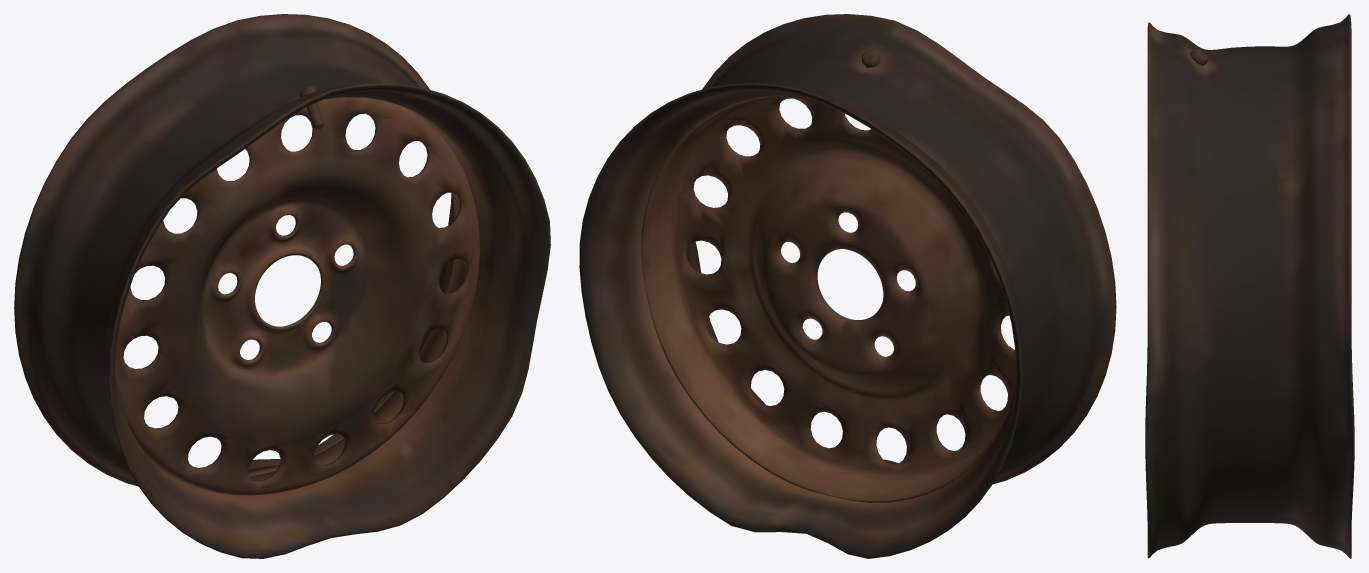
Rendered from rusted_wheel_rim_01.glb.
The picture shows the model from 3 angles, left to right: view 1: azimuth 30°, elevation 25°; view 2: azimuth 150°, elevation 25°; view 3: azimuth 270°, elevation 25°; orthographic projection. The views are drawn at different scales.
Parts seen in each view (by area): view 1: rusted_wheel_rim_01; view 2: rusted_wheel_rim_01; view 3: rusted_wheel_rim_01.
Boxes of the visible parts, x1=… form: rusted_wheel_rim_01: x1=14, y1=14, x2=550, y2=558; rusted_wheel_rim_01: x1=579, y1=14, x2=1116, y2=558; rusted_wheel_rim_01: x1=1145, y1=14, x2=1354, y2=558.
Bounding box in the file's own units: 0.4029 × 0.3955 × 0.1541.
Materials: 1 (1 with a texture image).
